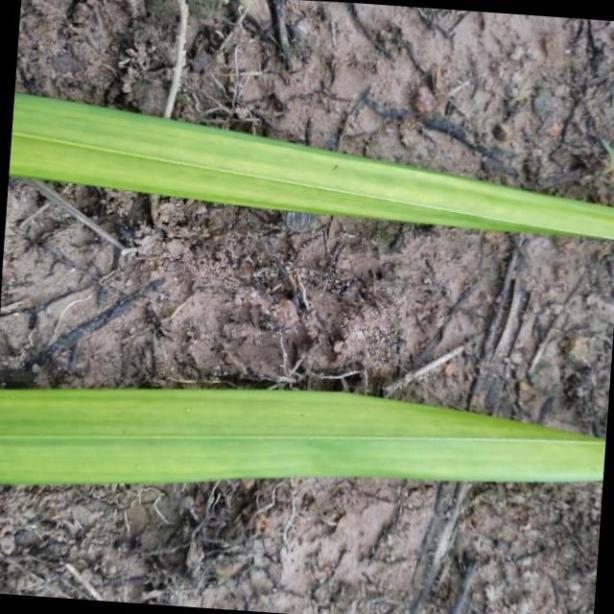nitrogen: (0, 91, 614, 242), (0, 384, 614, 486)
